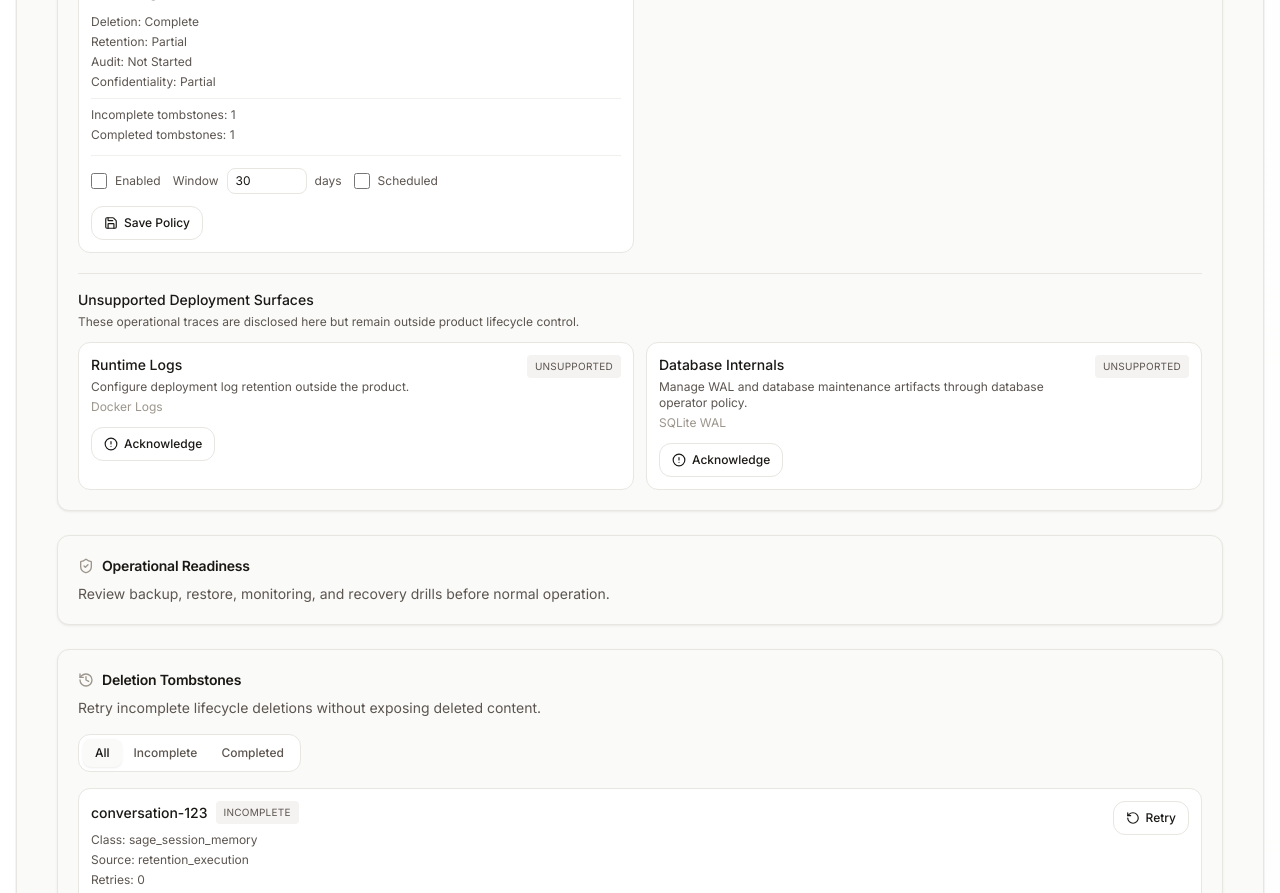
AdminDeploymentConfig › shows unsupported deployment surface categories and lets admins acknowledge one
(page scrolled)
Expected: the heading "Unsupported Deployment Surfaces" is shown, left=78, top=291, right=314, bottom=308
Expected: the heading "Database Internals" is shown, left=659, top=356, right=784, bottom=373
Click the button "Acknowledge" below "Docker Logs" at (153, 444), box left=91, top=427, right=215, bottom=461
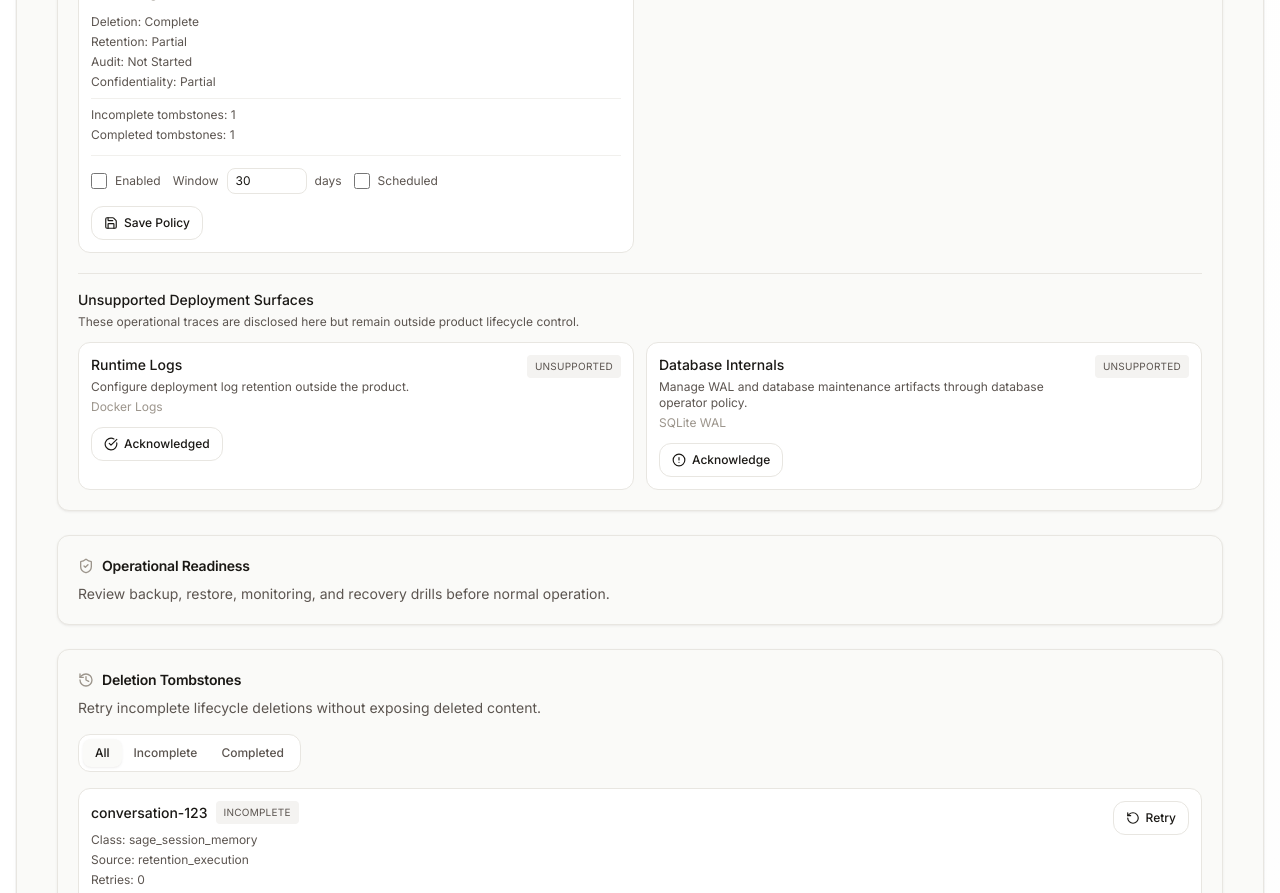
Now the button "Acknowledged" is shown, box left=91, top=427, right=223, bottom=461
